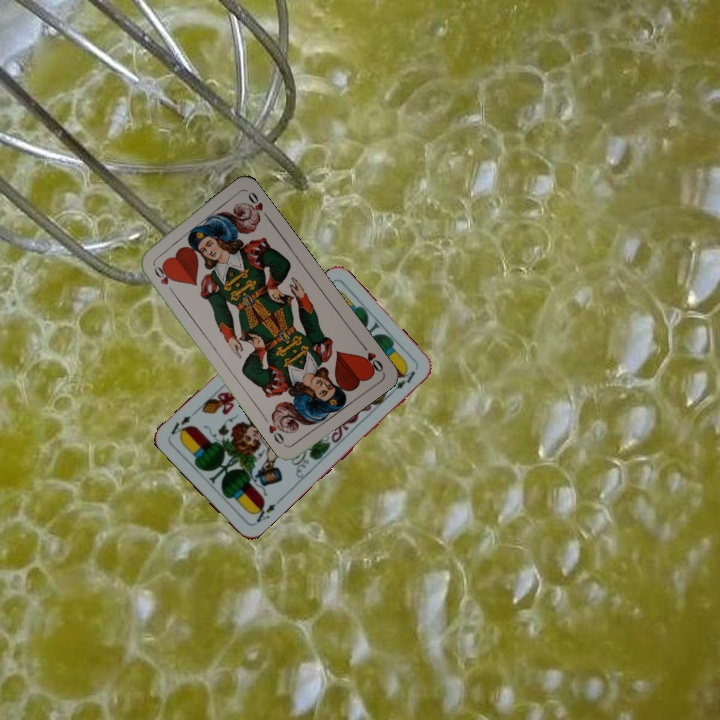EA: (249, 498, 279, 528)
HO: (357, 339, 386, 376), (149, 259, 176, 296)
